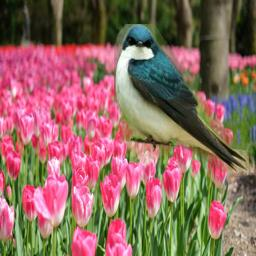Swallow: (114, 24, 249, 172)
